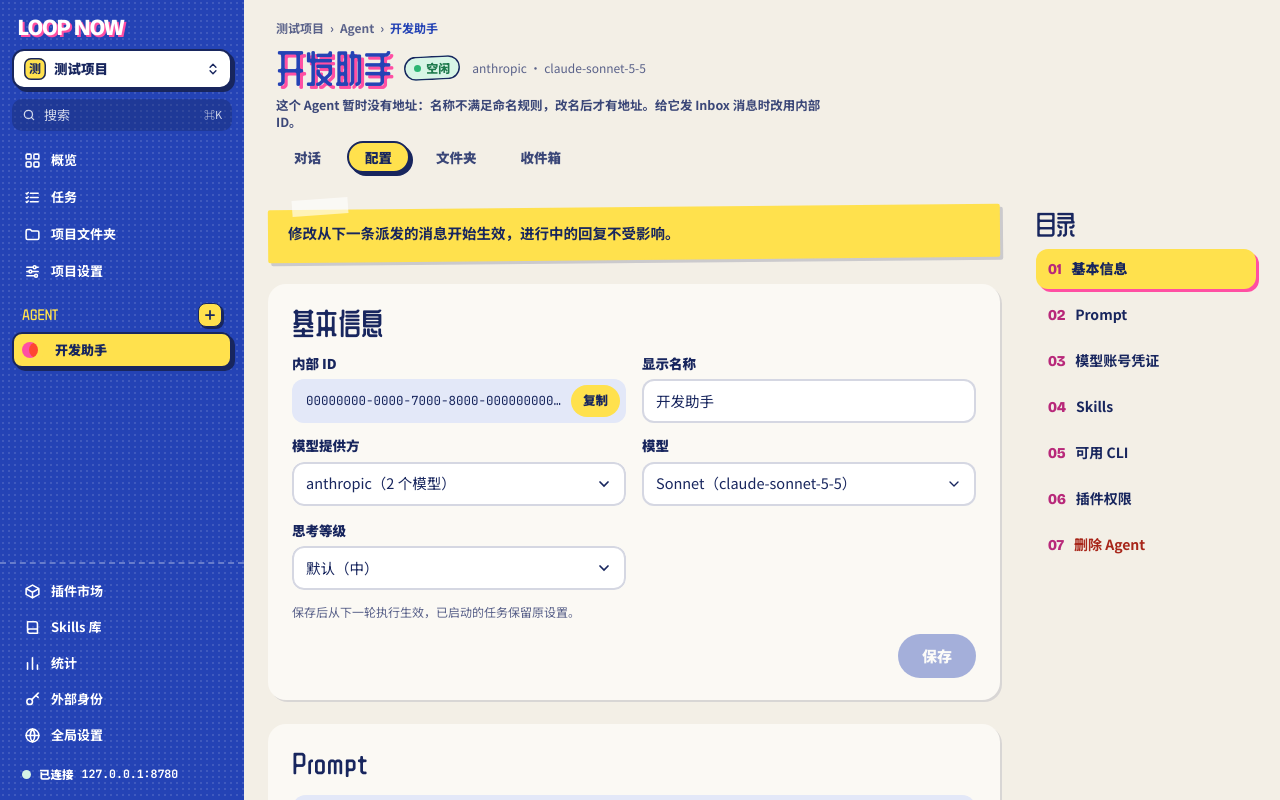
Test: 只列模型支持等级及实际默认值，单独保存等级，不夹带模型或名称
Expected: the element "基本信息" is shown, [268, 284, 1000, 700]
Select "高" in the dropdown labelled "思考等级" at (459, 568), box [292, 546, 626, 590]
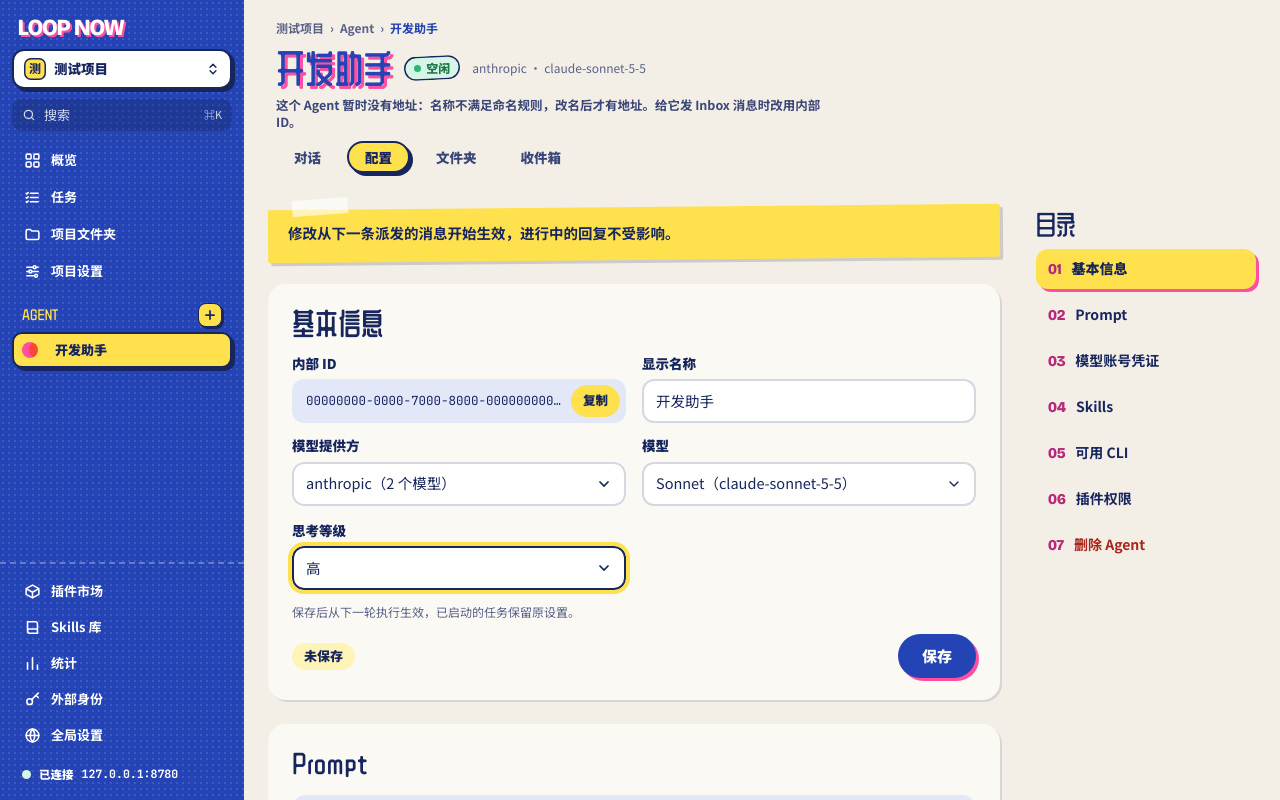
Click the button "保存".
click(937, 656)  # box [898, 634, 976, 678]
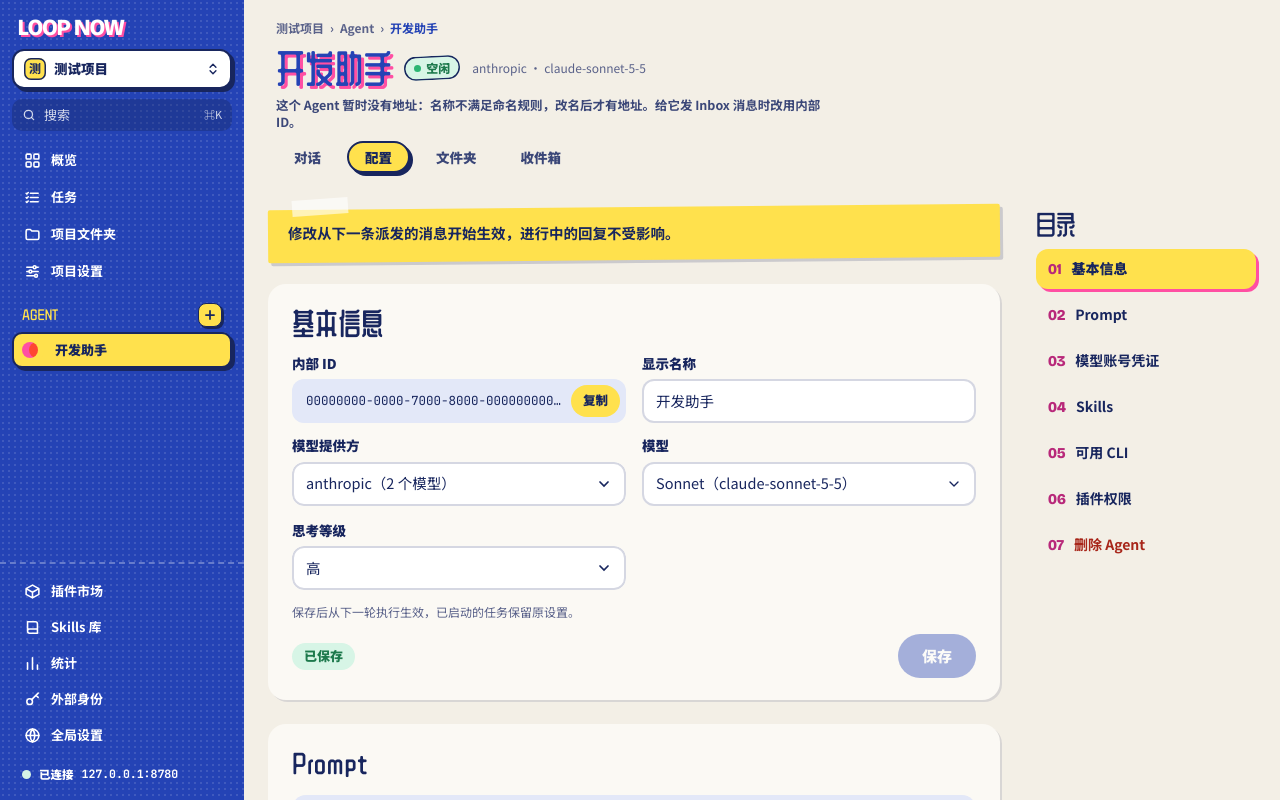
Expected: the button "保存" is disabled, [898, 634, 976, 678]
